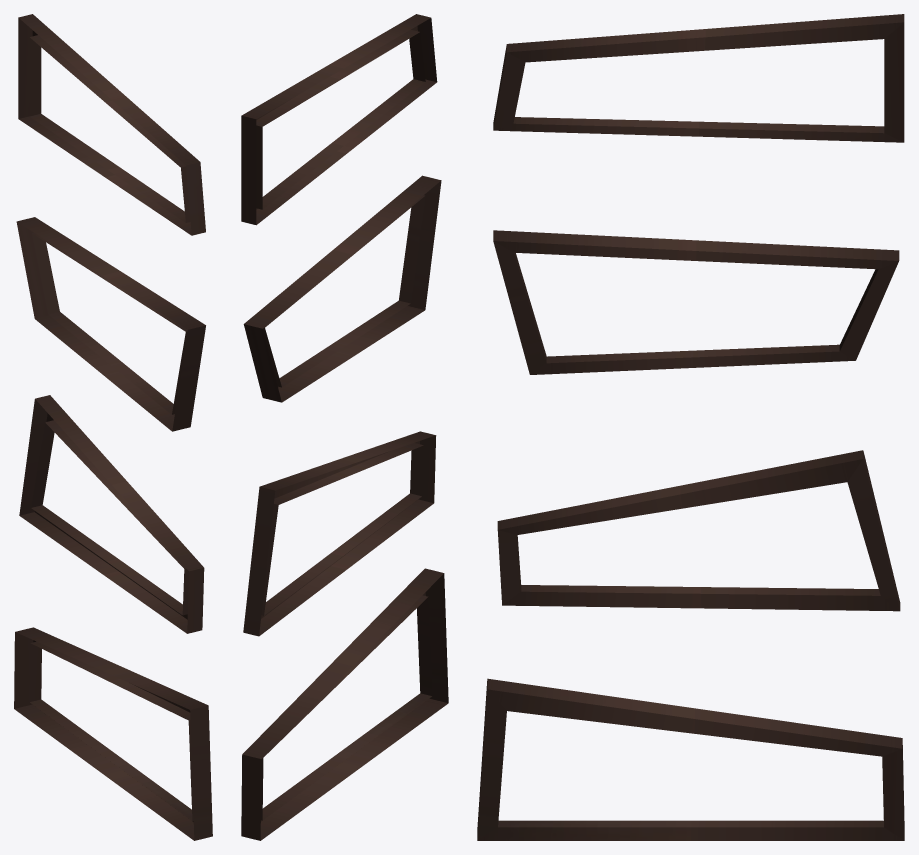
The model's file is SM_Level7_frame.fbx.
3 views of the same model, side by side, from view 1: azimuth 30°, elevation 25°; view 2: azimuth 150°, elevation 25°; view 3: azimuth 270°, elevation 25° (orthographic). The views are drawn at different scales.
Visible parts, largest first — view 1: polySurface5; view 2: polySurface5; view 3: polySurface5.
Boxes of the visible parts, x1,y1,x2,y2 form: polySurface5: [14, 14, 212, 840]; polySurface5: [241, 14, 448, 840]; polySurface5: [477, 14, 904, 840].
Size of the model in its own units: 0.2211 by 7.86 by 3.72.
